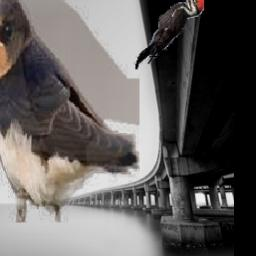Swallow: (0, 0, 140, 222)
Woodpecker: (130, 0, 204, 70)
